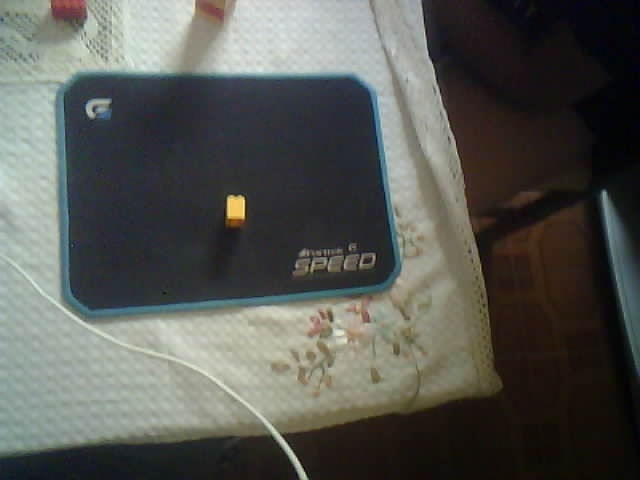lego: (193, 1, 239, 25), (50, 1, 87, 21), (224, 194, 246, 227)
